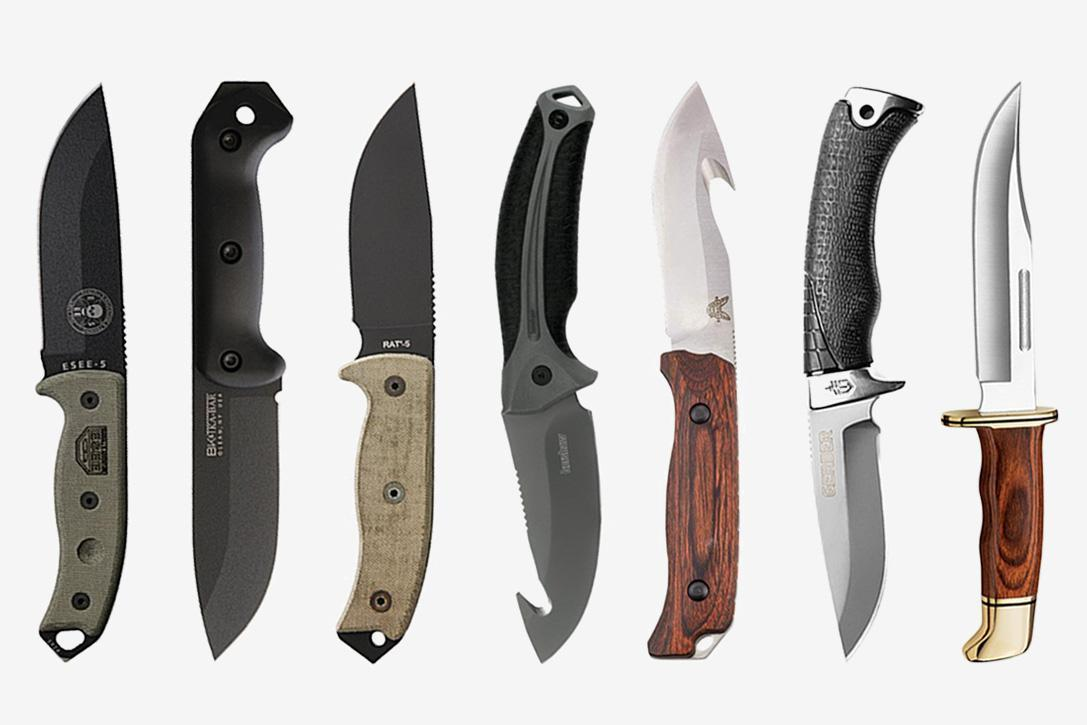faca: (940, 83, 1059, 661), (803, 87, 921, 656), (495, 86, 600, 661), (191, 82, 292, 658), (337, 86, 434, 660), (647, 83, 739, 658), (36, 86, 126, 661)
